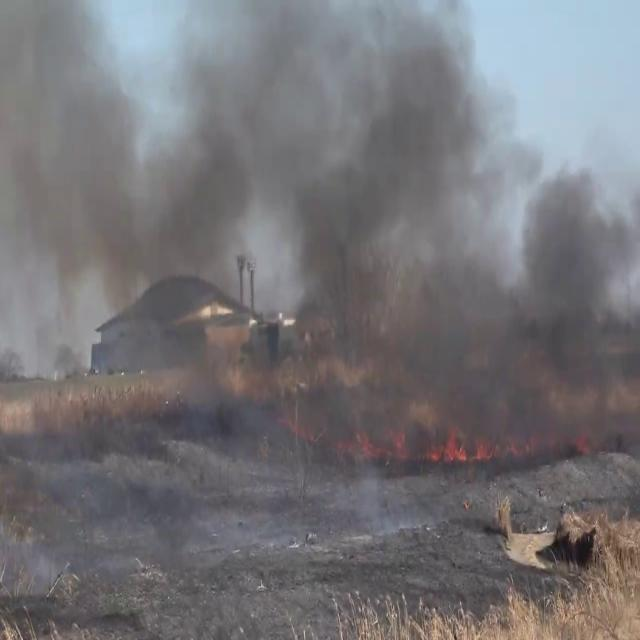Smoke: (1, 0, 630, 628), (0, 0, 634, 434)
